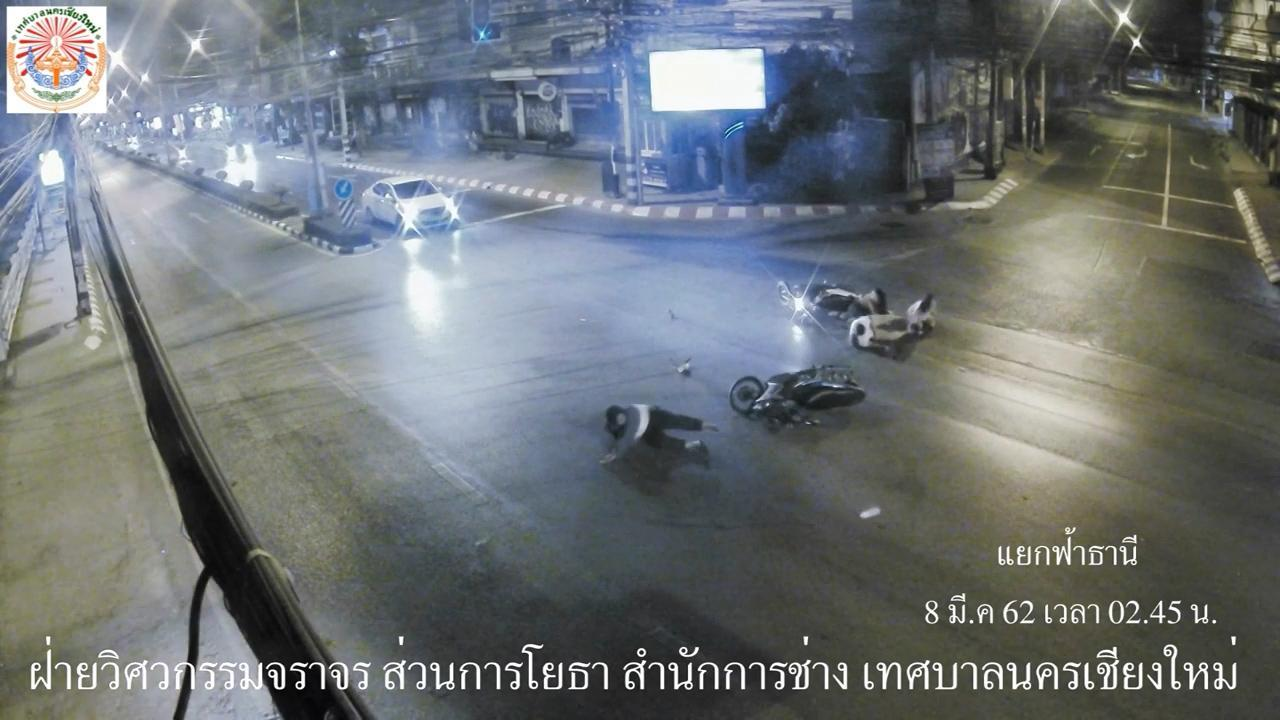accident: (598, 403, 721, 469)
